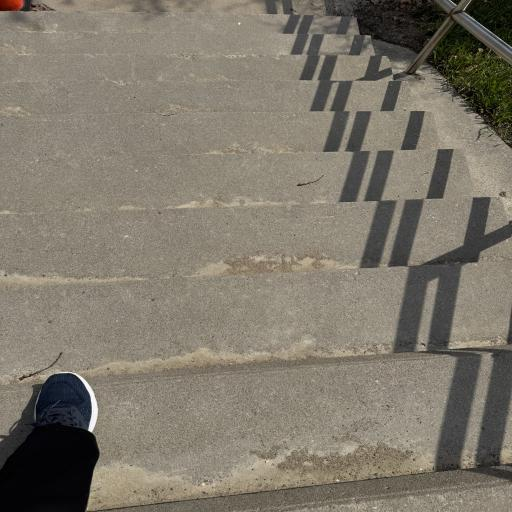Stairs: (0, 2, 512, 510)
